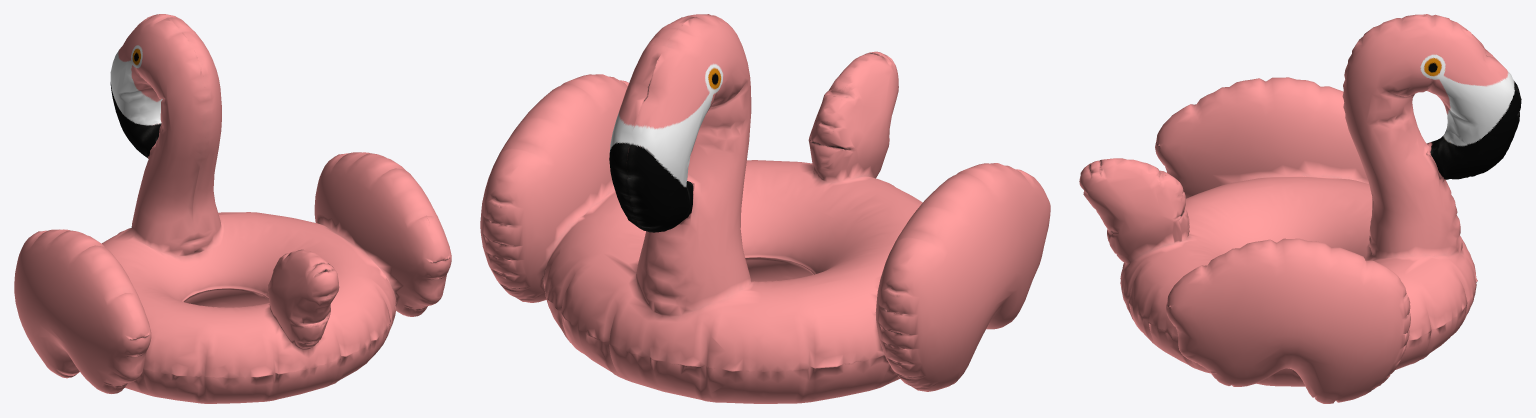
Rendered from Flotador4.fbx.
3 renders of one model, left to right at view 1: azimuth 30°, elevation 25°; view 2: azimuth 150°, elevation 25°; view 3: azimuth 270°, elevation 25°, orthographic. The views are drawn at different scales.
Parts seen in each view (by area): view 1: Torus.005; view 2: Torus.005; view 3: Torus.005.
Boxes of the visible parts, <box> form: Torus.005: <box>14,14,451,403</box>; Torus.005: <box>480,14,1050,403</box>; Torus.005: <box>1079,14,1521,403</box>.
Bounding box in the file's own units: 409 × 301 × 387.
